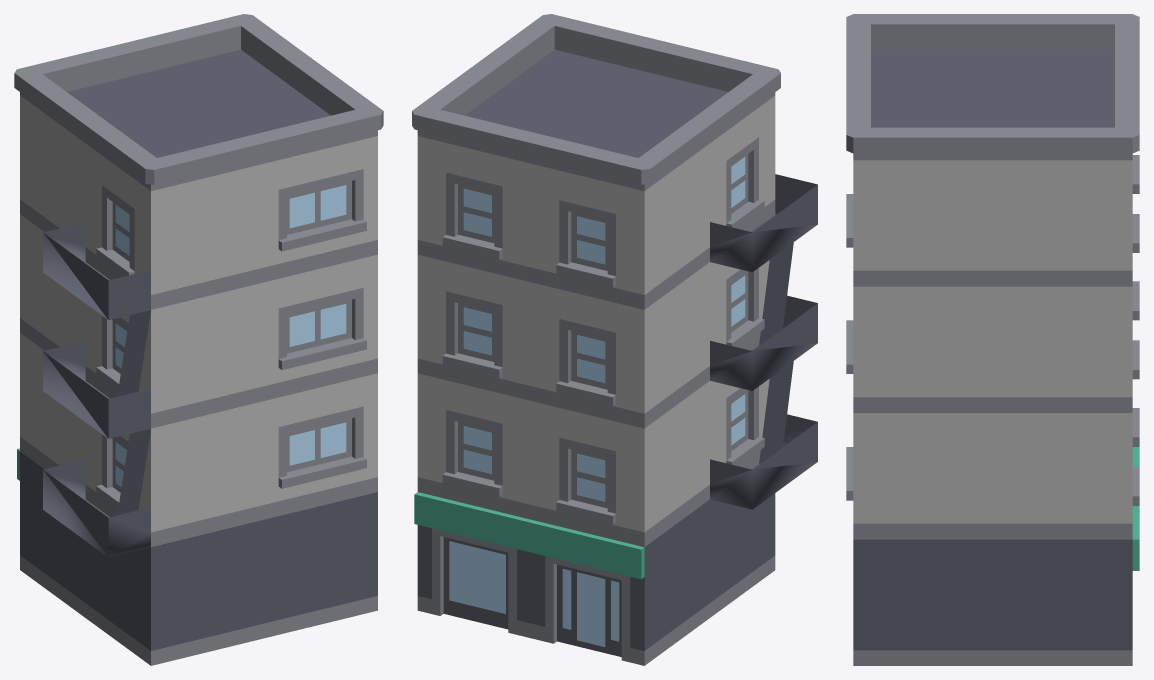
The model's file is large_buildingC.glb.
3 renders of one model, left to right at view 1: azimuth 30°, elevation 25°; view 2: azimuth 150°, elevation 25°; view 3: azimuth 270°, elevation 25°, orthographic. The views are drawn at different scales.
Visible parts, largest first — view 1: large_buildingC; view 2: large_buildingC; view 3: large_buildingC.
Part boxes in pixels (x1=…): large_buildingC: x1=14, y1=14, x2=383, y2=665; large_buildingC: x1=412, y1=14, x2=817, y2=665; large_buildingC: x1=846, y1=14, x2=1139, y2=665.
Size of the model in its own units: 0.97 by 1.68 by 0.84.
